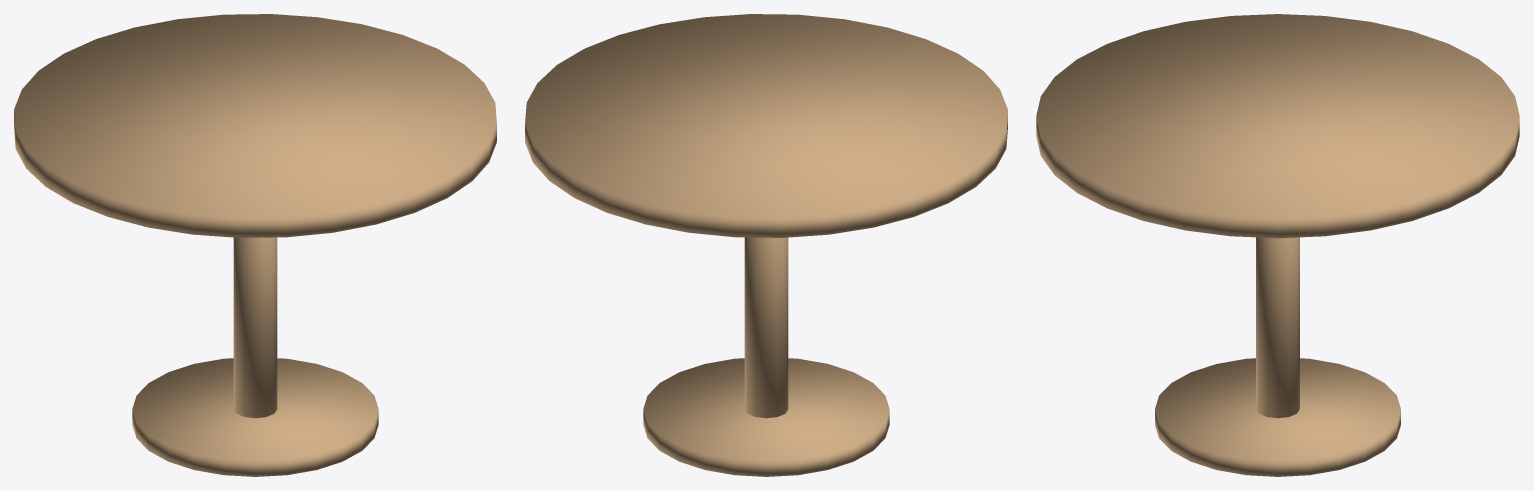
File: table.fbx
3 views of the same model, side by side, from view 1: azimuth 30°, elevation 25°; view 2: azimuth 150°, elevation 25°; view 3: azimuth 270°, elevation 25° (orthographic).
Parts seen in each view (by area): view 1: table; view 2: table; view 3: table.
Boxes of the visible parts, x1,y1,x2,y2 form: table: [14, 14, 496, 476]; table: [525, 14, 1007, 476]; table: [1036, 14, 1519, 476].
Bounding box in the file's own units: 1.1 × 0.775 × 1.1.
